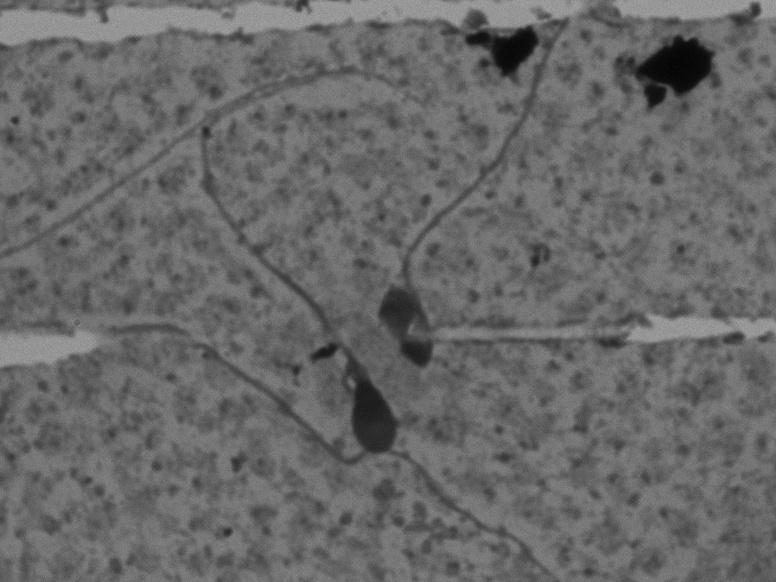Abnormal: (166, 57, 444, 469), (356, 3, 584, 380)
